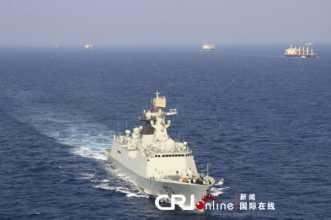warship: (105, 85, 228, 206)
